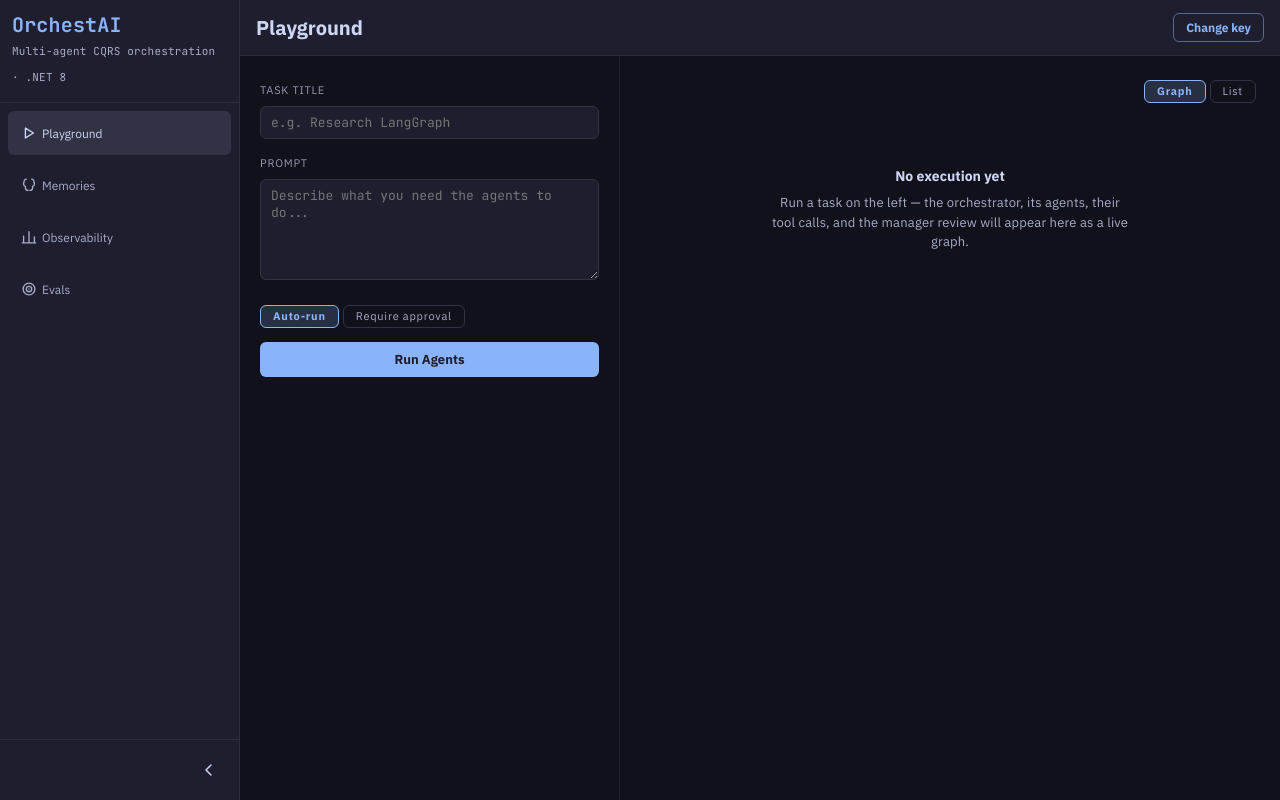
Test: F1.1 — section headings exist to navigate by › gives Evals real headings below the view title
Click the button "Evals": coordinates (120, 289) left=8, top=267, right=231, bottom=311
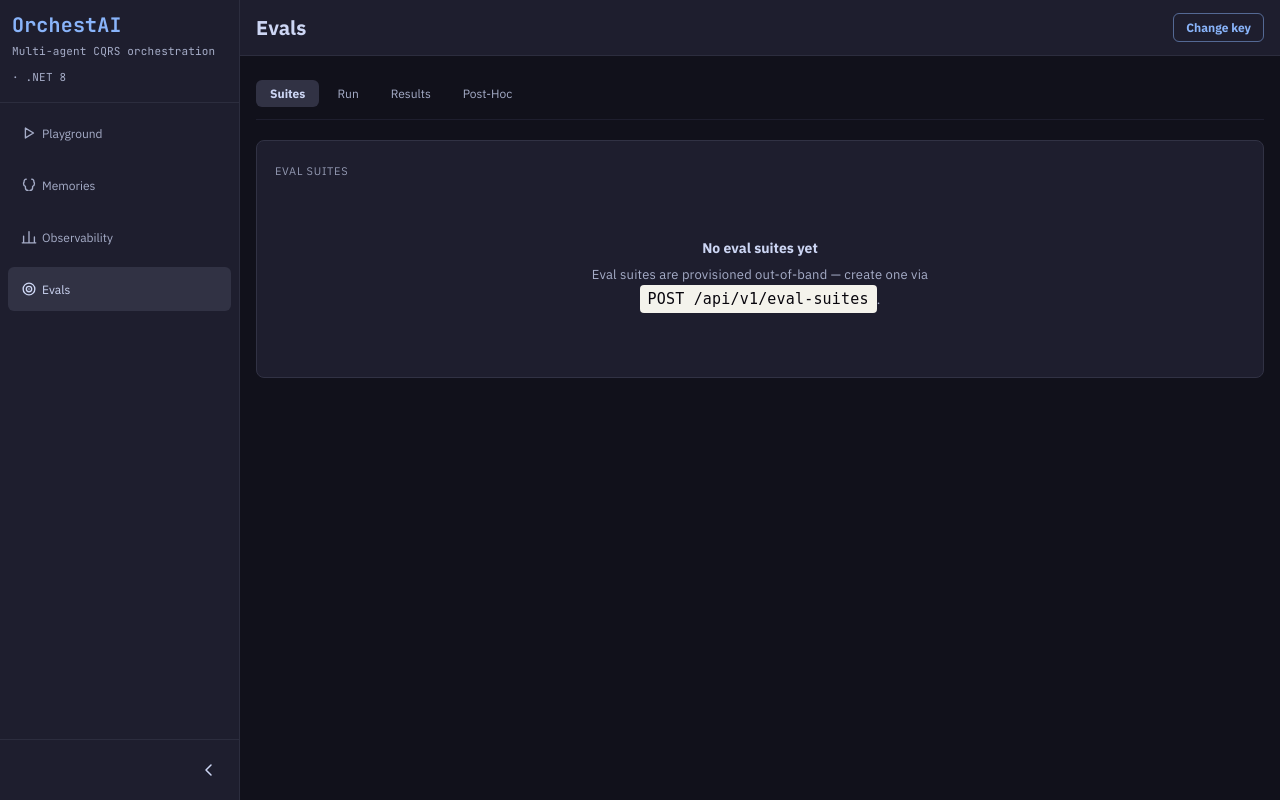
expect the heading "Evals" is shown: met, box left=256, top=16, right=306, bottom=40
expect the heading "Eval Suites" is shown: met, box left=275, top=164, right=348, bottom=178
